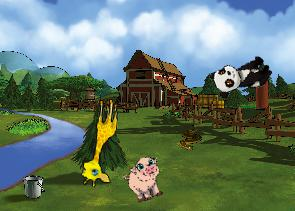giraffe: (79, 96, 119, 188)
panda: (208, 50, 275, 101)
pig: (120, 153, 170, 206)
